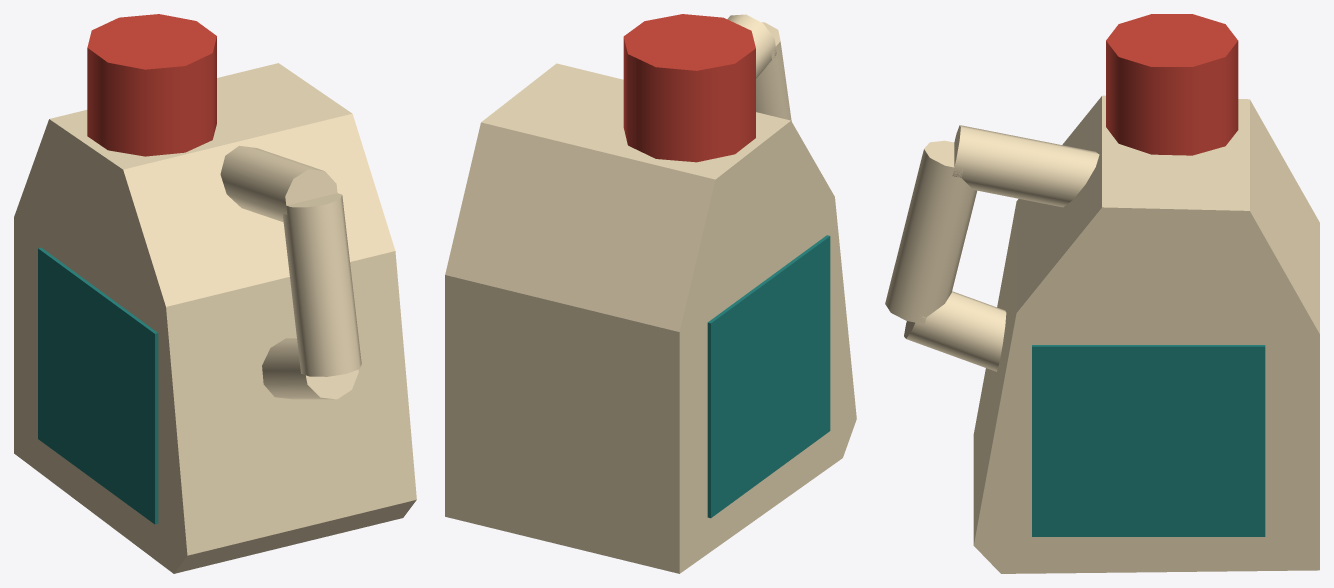
The model's file is bleach_bomb.glb.
3 views of the same model, side by side, from view 1: azimuth 30°, elevation 25°; view 2: azimuth 150°, elevation 25°; view 3: azimuth 270°, elevation 25° (orthographic). The views are drawn at different scales.
Visible parts, largest first — view 1: _MeshInstance3D_4494; view 2: _MeshInstance3D_4494; view 3: _MeshInstance3D_4494.
Boxes of the visible parts, x1=… form: _MeshInstance3D_4494: x1=14, y1=14, x2=416, y2=573; _MeshInstance3D_4494: x1=445, y1=14, x2=856, y2=573; _MeshInstance3D_4494: x1=885, y1=14, x2=1319, y2=573.
Size of the model in its own units: 0.1155 by 0.212 by 0.1845.
